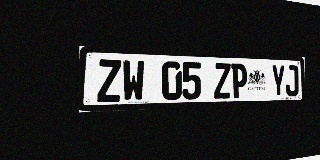0: (162, 61, 182, 100)
5: (182, 62, 201, 100)
J: (285, 65, 299, 97)
P: (231, 63, 247, 98)
W: (122, 60, 145, 102)
Y: (271, 65, 285, 97)
Z: (97, 59, 121, 103), (214, 63, 231, 99)
